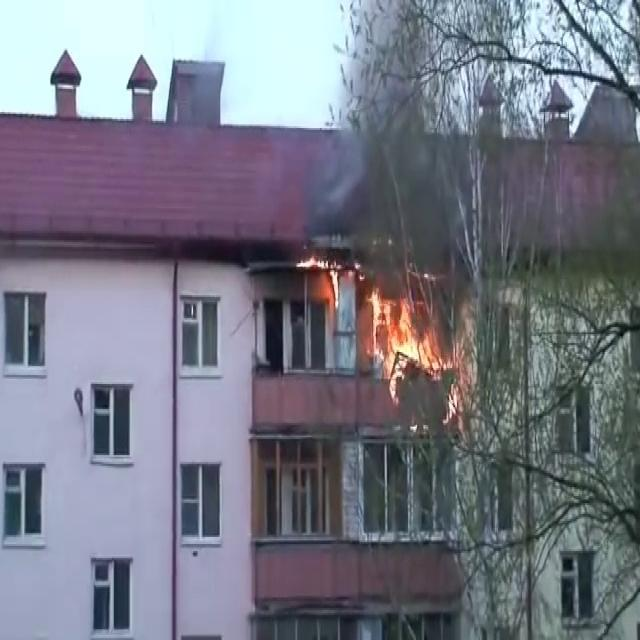Fire: (362, 279, 451, 384)
Smoke: (298, 22, 464, 280)
